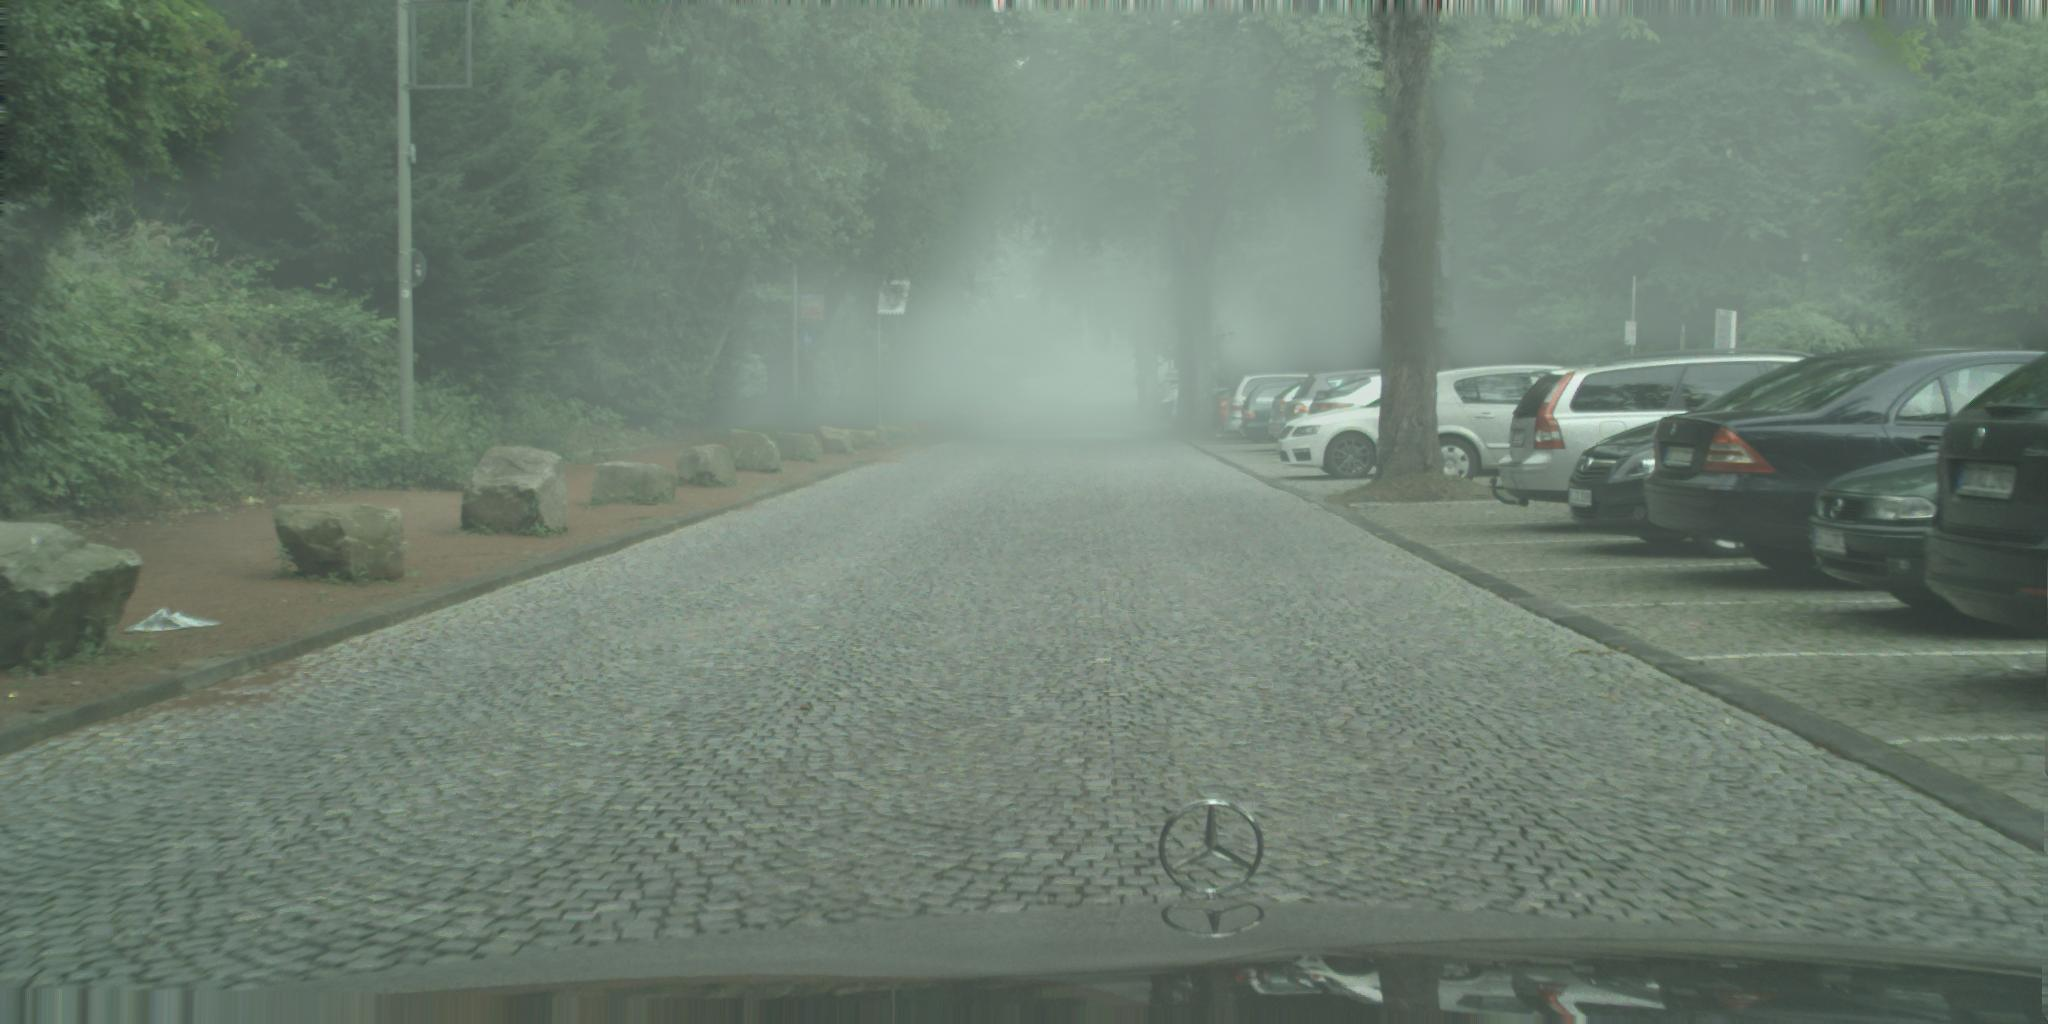car: (1569, 346, 2026, 559), (1644, 350, 2048, 572), (1492, 350, 1839, 505), (1810, 435, 2018, 618), (1923, 347, 2048, 631), (1401, 364, 1597, 488), (1277, 381, 1462, 479), (1283, 367, 1400, 438), (1225, 371, 1340, 440), (1311, 372, 1413, 434), (1240, 380, 1334, 440), (1270, 377, 1330, 440), (1172, 389, 1240, 424), (1155, 388, 1209, 424), (1212, 389, 1258, 428), (1155, 376, 1195, 398), (1164, 370, 1189, 381)
